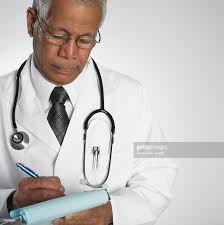Indian_Male: (33, 13, 101, 77)
